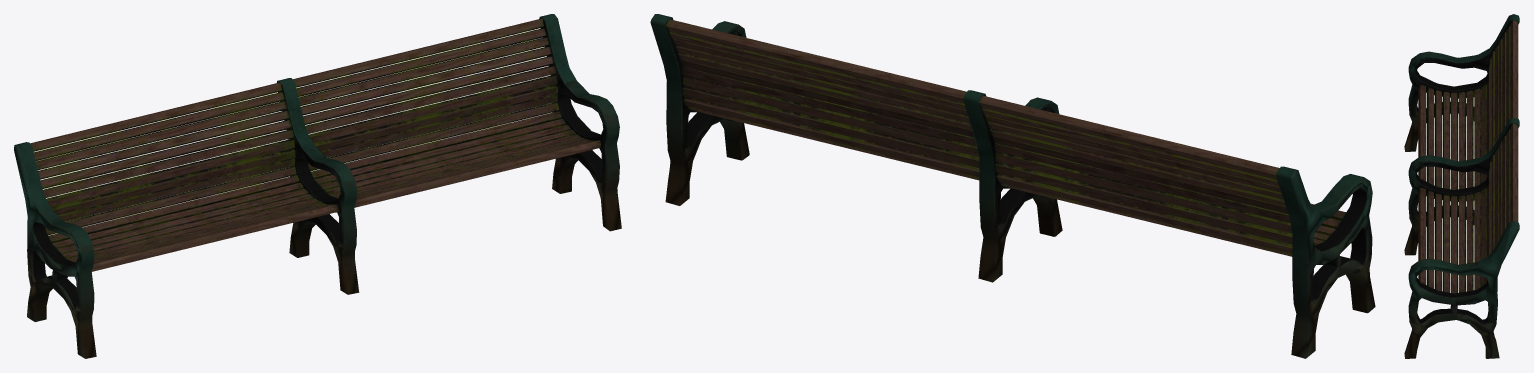
The model's file is p_bench.glb.
3 views of the same model, side by side, from view 1: azimuth 30°, elevation 25°; view 2: azimuth 150°, elevation 25°; view 3: azimuth 270°, elevation 25° (orthographic). The views are drawn at different scales.
Parts seen in each view (by area): view 1: Bench; view 2: Bench; view 3: Bench.
Boxes of the visible parts, x1=… form: Bench: x1=14, y1=14, x2=621, y2=358; Bench: x1=650, y1=14, x2=1375, y2=358; Bench: x1=1404, y1=14, x2=1519, y2=358.
Size of the model in its own units: 205 by 60.11 by 47.01.
Materials: 2 (2 with a texture image).
